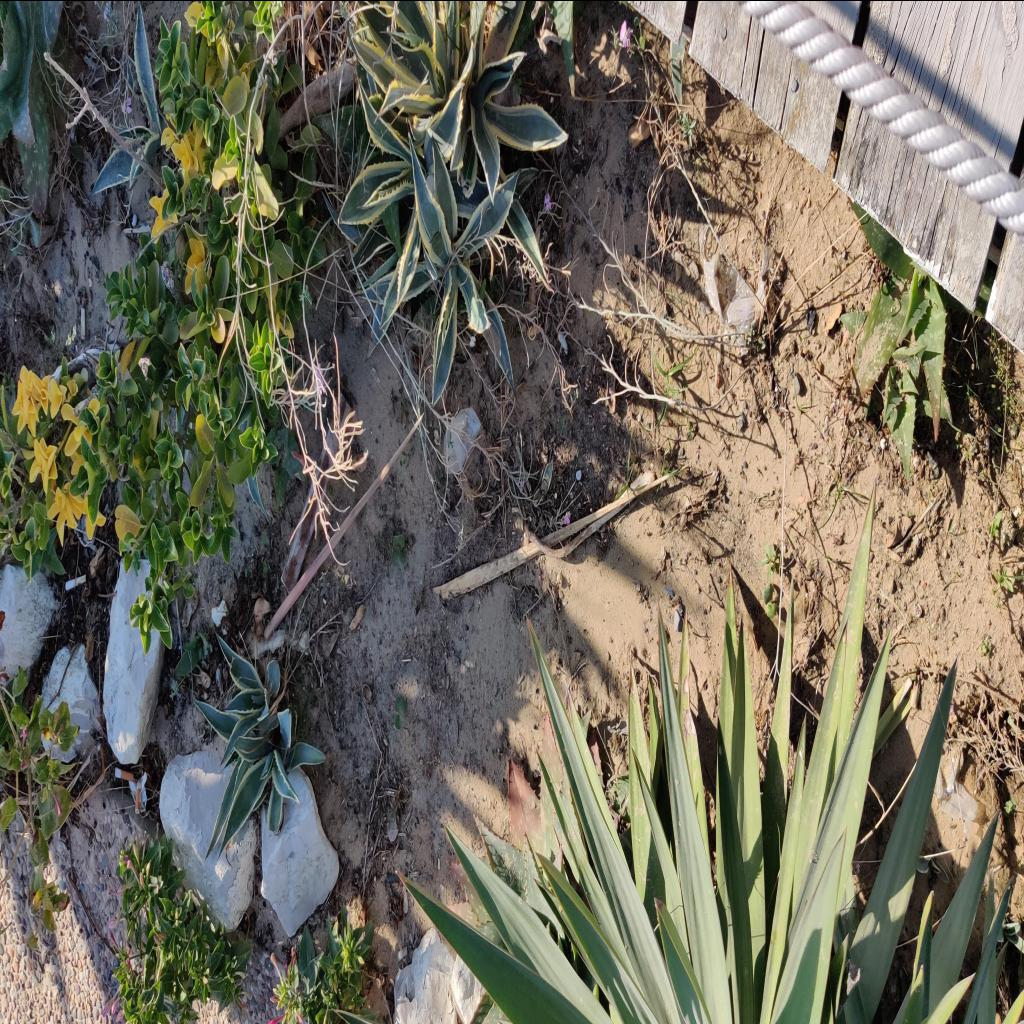Cigarette: (65, 573, 87, 589), (114, 765, 134, 782), (80, 306, 86, 338)
Plastic film: (700, 214, 770, 352), (936, 753, 978, 835), (444, 407, 480, 474), (134, 780, 142, 812)
